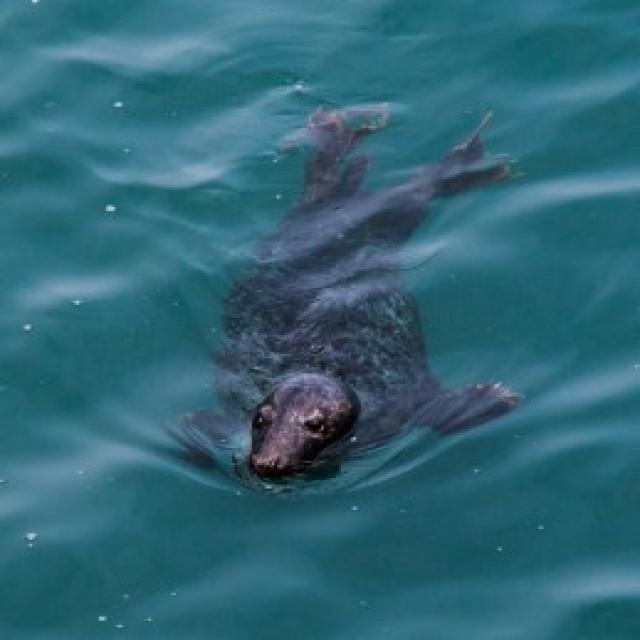Seal: (196, 104, 610, 493)
